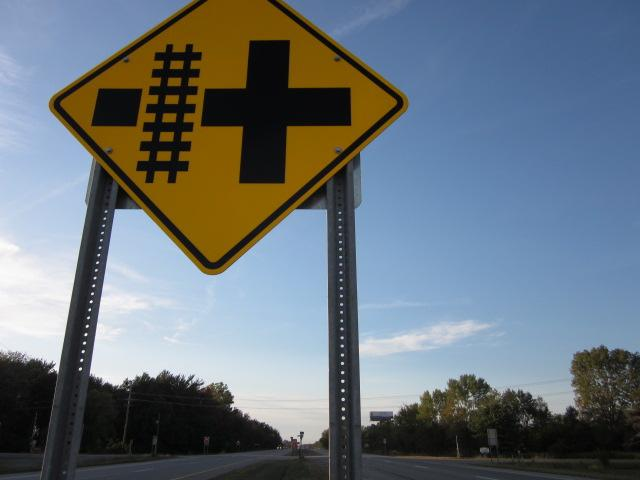warning: (49, 1, 416, 280)
